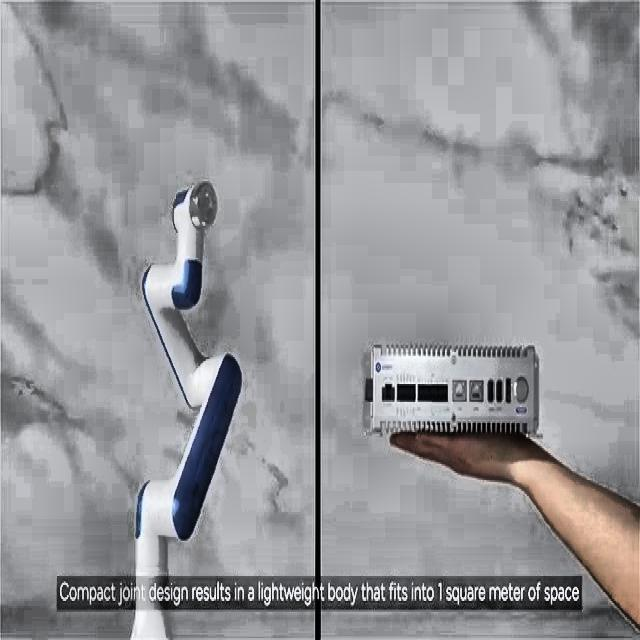human: (389, 427, 639, 631)
robot: (129, 178, 242, 636)
